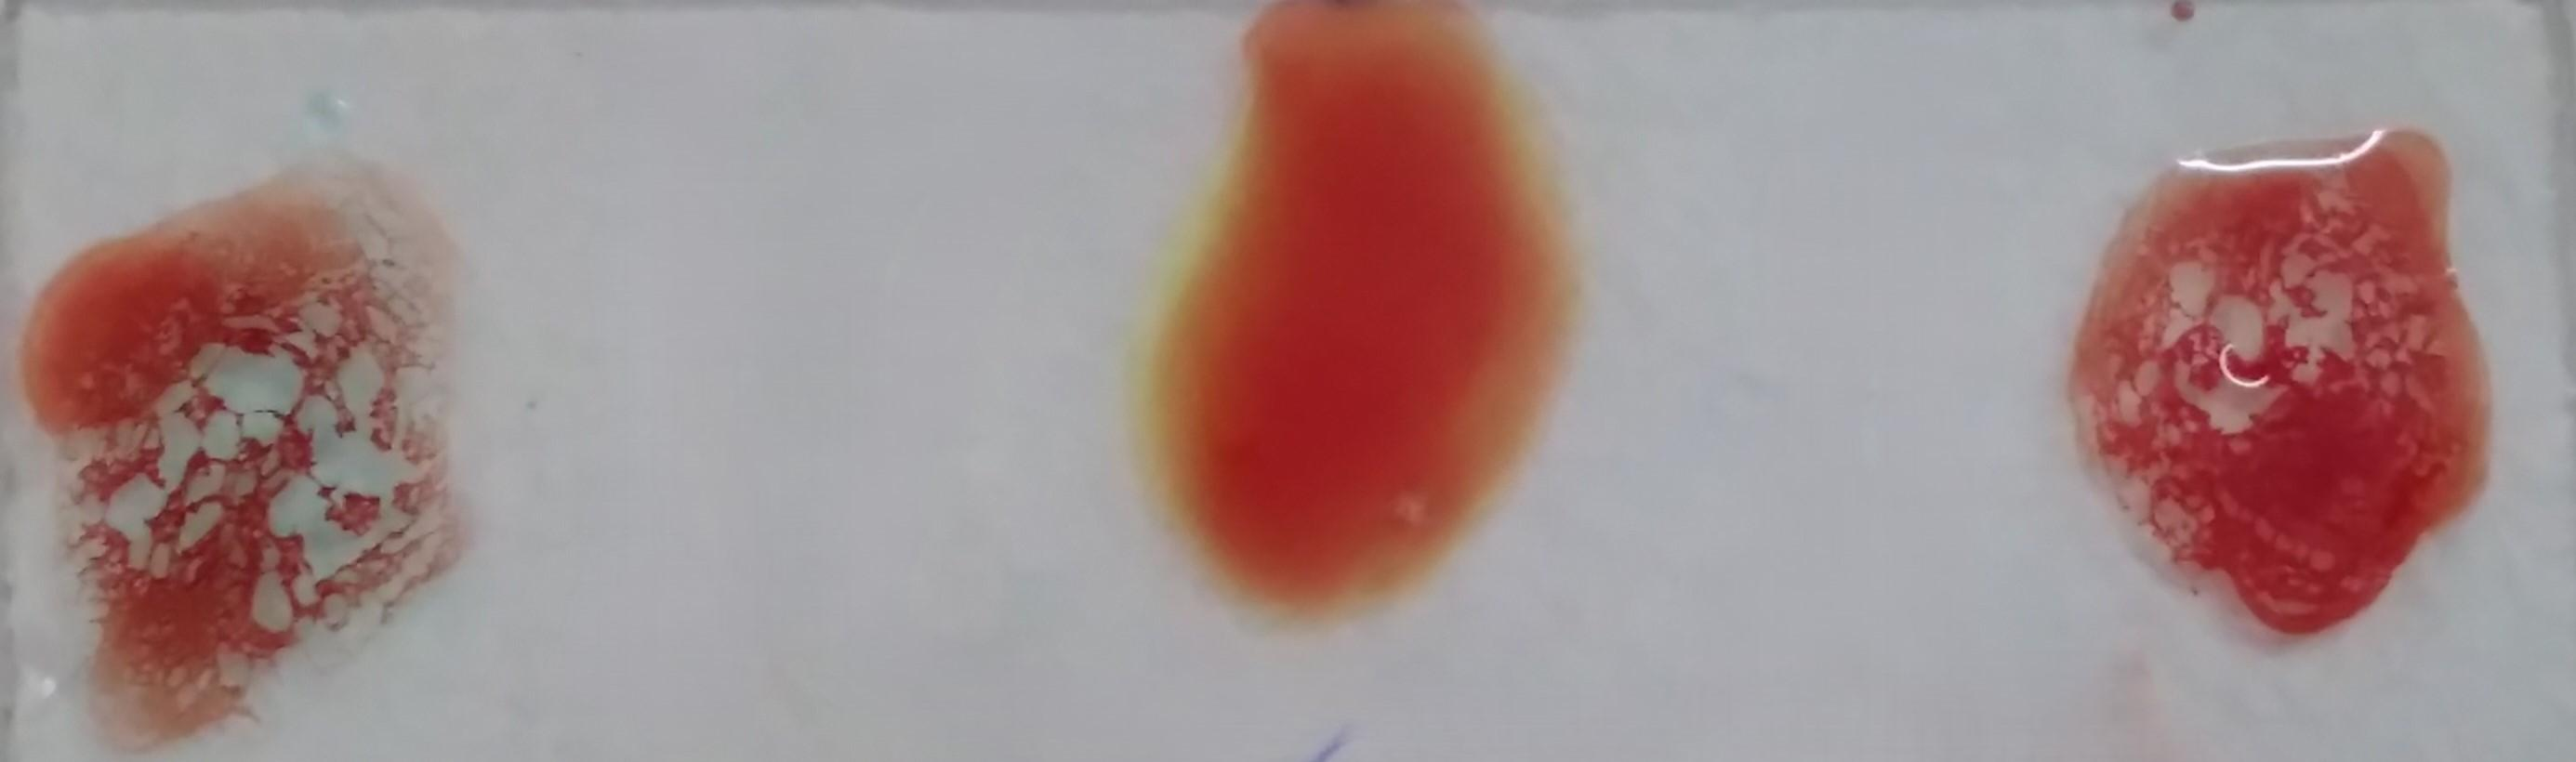A: (26, 161, 455, 749), (2057, 145, 2500, 650)
